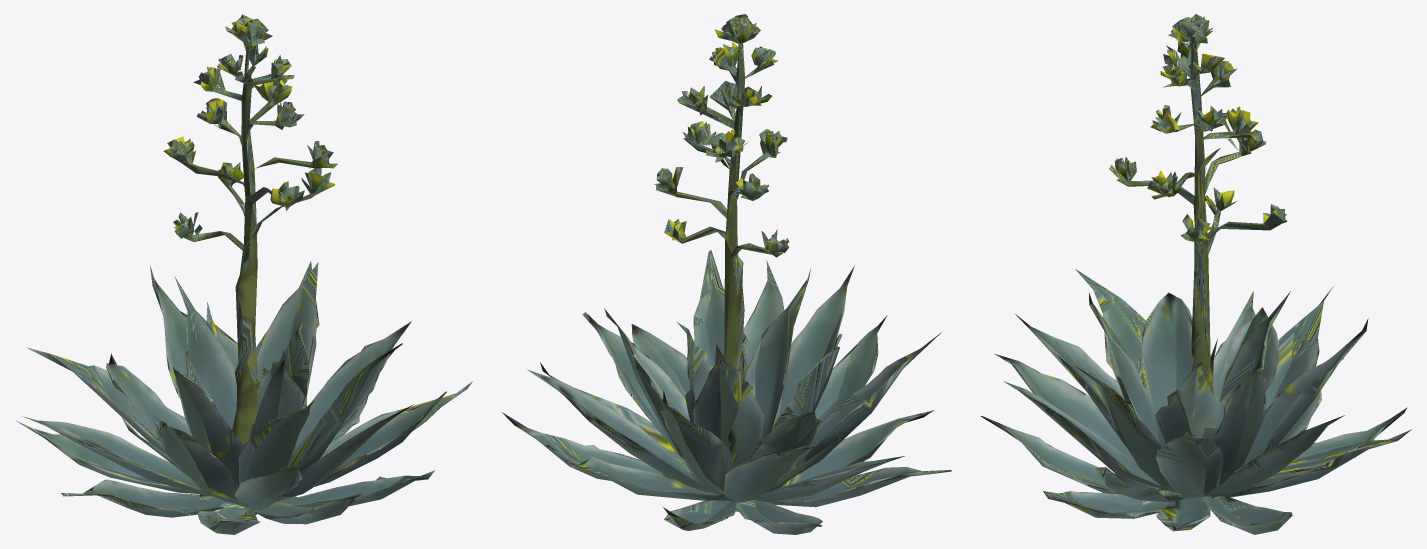
Rendered from century-plant-agave.glb.
3 views of the same model, side by side, from view 1: azimuth 30°, elevation 25°; view 2: azimuth 150°, elevation 25°; view 3: azimuth 270°, elevation 25° (orthographic).
Visible parts, largest first — view 1: world; view 2: world; view 3: world.
Boxes of the visible parts, x1=… form: world: x1=15, y1=14, x2=472, y2=534; world: x1=502, y1=14, x2=951, y2=534; world: x1=980, y1=14, x2=1411, y2=534.
Bounding box in the file's own units: 0.8831 × 1 × 0.8058.
Materials: 1 (1 with a texture image).
